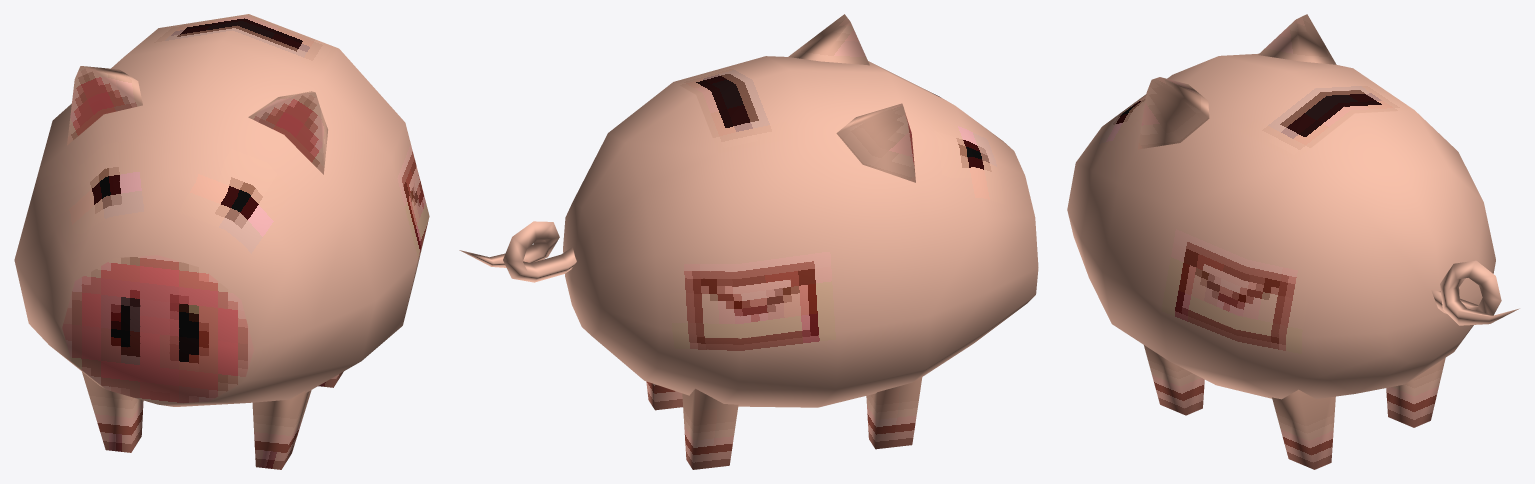
The model's file is rmk_oth_pigbank.dae.
3 renders of one model, left to right at view 1: azimuth 30°, elevation 25°; view 2: azimuth 150°, elevation 25°; view 3: azimuth 270°, elevation 25°, orthographic. The views are drawn at different scales.
Visible parts, largest first — view 1: rmk_oth_pigbank; view 2: rmk_oth_pigbank; view 3: rmk_oth_pigbank.
Boxes of the visible parts, x1,y1,x2,y2 form: rmk_oth_pigbank: (14,14,429,469); rmk_oth_pigbank: (459,14,1038,469); rmk_oth_pigbank: (1067,14,1519,469).
Bounding box in the file's own units: 20.44 × 16.72 × 20.34.
1 material, 1 textured.
